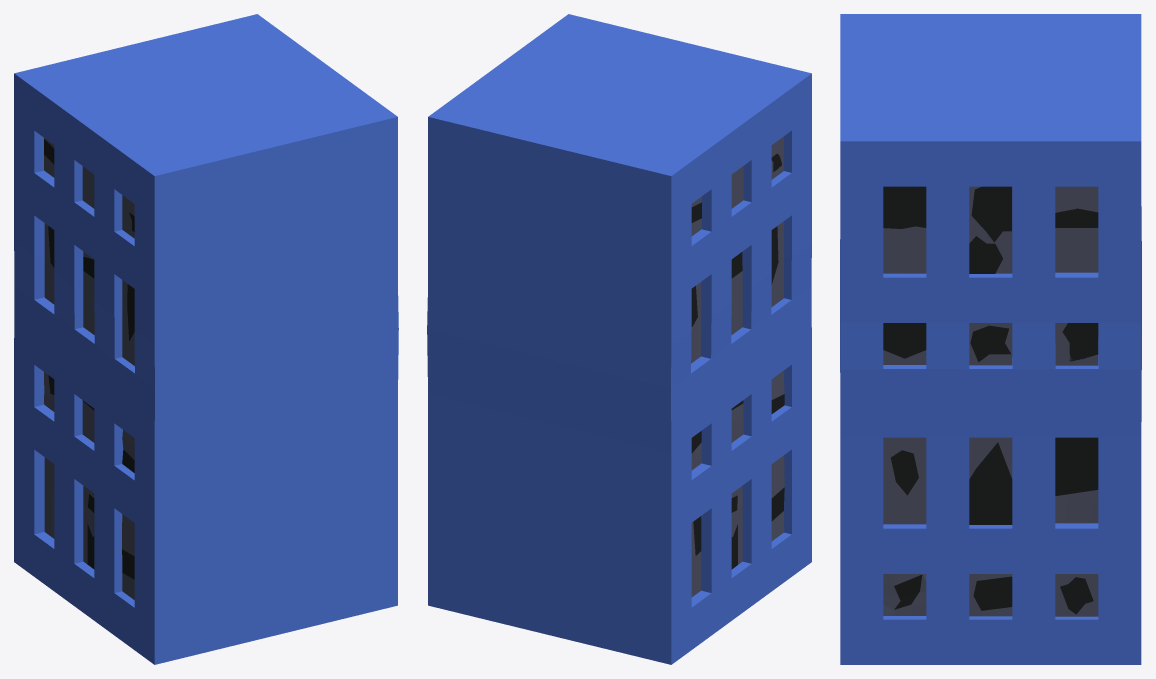
Rendered from house1.fbx.
3 views of the same model, side by side, from view 1: azimuth 30°, elevation 25°; view 2: azimuth 150°, elevation 25°; view 3: azimuth 270°, elevation 25° (orthographic). The views are drawn at different scales.
Visible parts, largest first — view 1: Cube; view 2: Cube; view 3: Cube.
Part boxes in pixels (box(x1,y1,x2,y2)): Cube: box(14, 14, 398, 664); Cube: box(427, 14, 811, 664); Cube: box(840, 14, 1141, 664).
Bounding box in the file's own units: 558 × 1067 × 557.
